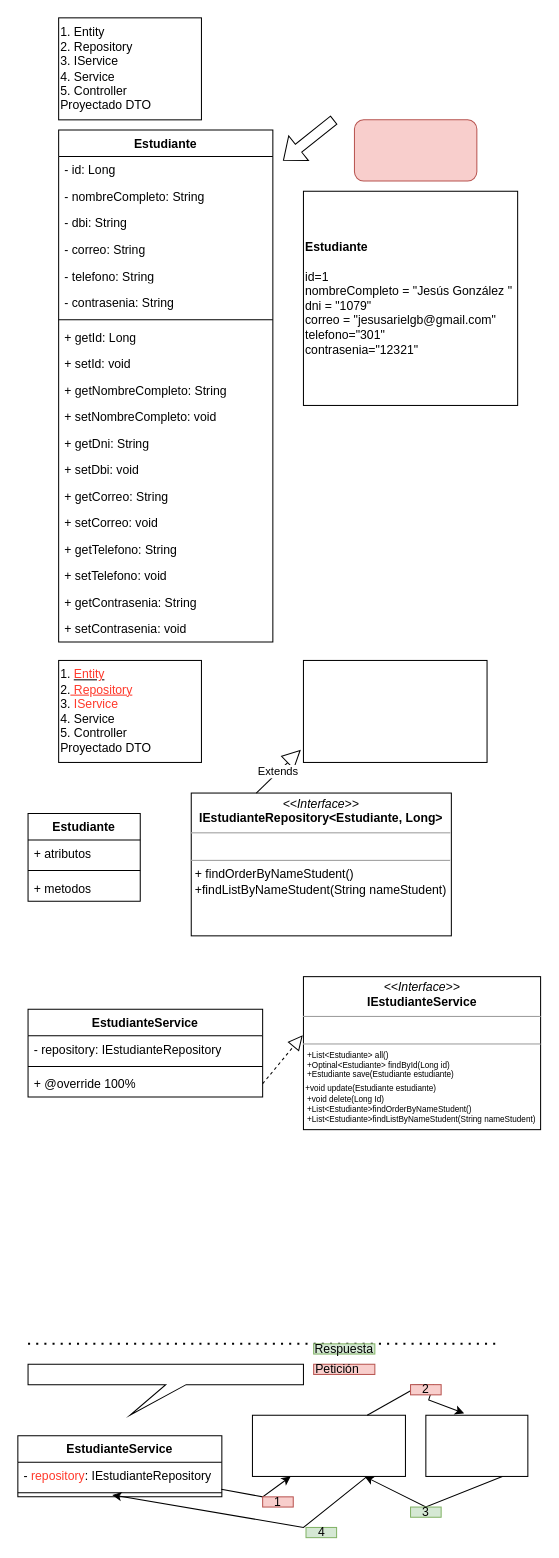
This 559x1558 diagram has some shape labels left out. Here are the shapes that lost their labels. From the top down, the box of each, then its label:
(353, 119, 477, 181): Objeto T
(302, 659, 487, 762): <<Interface>> JpaRepository + + method
(27, 1363, 303, 1415): Inyección de dependencia
(251, 1414, 405, 1476): <<Interface>> IEstudianteRepository
(425, 1414, 528, 1476): <<Interface>> JpaRepository
